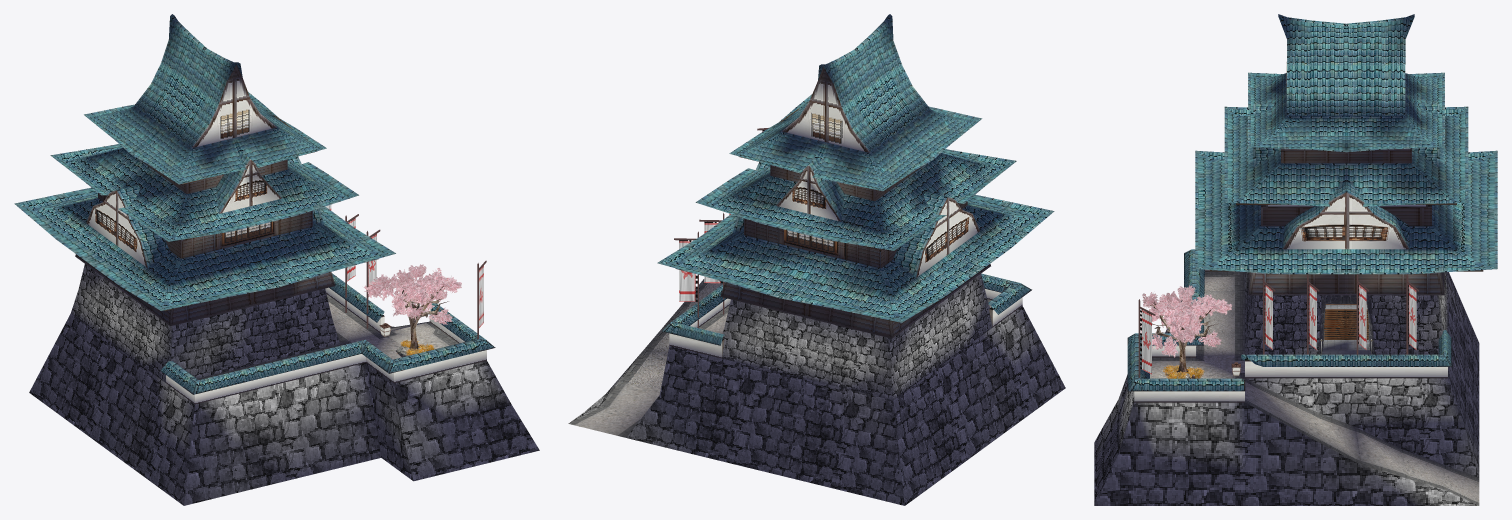
Rendered from castle.glb.
3 views of the same model, side by side, from view 1: azimuth 30°, elevation 25°; view 2: azimuth 150°, elevation 25°; view 3: azimuth 270°, elevation 25° (orthographic). The views are drawn at different scales.
Parts seen in each view (by area): view 1: CASTLE_0, SMALL TREE.001_30; view 2: CASTLE_0, BANNER.004_23; view 3: CASTLE_0, SMALL TREE.001_30, BANNER_19, BANNER.003_22, BANNER.004_23, BANNER.001_20, BANNER.002_21.
Part boxes in pixels (<box>): CASTLE_0: <box>14,14,539,505</box>; SMALL TREE.001_30: <box>363,264,461,353</box>; CASTLE_0: <box>568,14,1065,505</box>; BANNER.004_23: <box>674,231,698,328</box>; CASTLE_0: <box>1094,14,1497,505</box>; SMALL TREE.001_30: <box>1142,285,1231,378</box>; BANNER_19: <box>1138,299,1155,377</box>; BANNER.003_22: <box>1356,274,1368,354</box>; BANNER.004_23: <box>1406,274,1418,354</box>; BANNER.001_20: <box>1263,274,1275,354</box>; BANNER.002_21: <box>1307,274,1319,354</box>.
Bounding box in the file's own units: 49.97 × 54.18 × 51.38.
16 materials, 16 textured.
